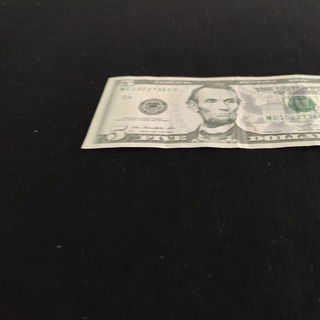5USDFront: (80, 73, 320, 149)
